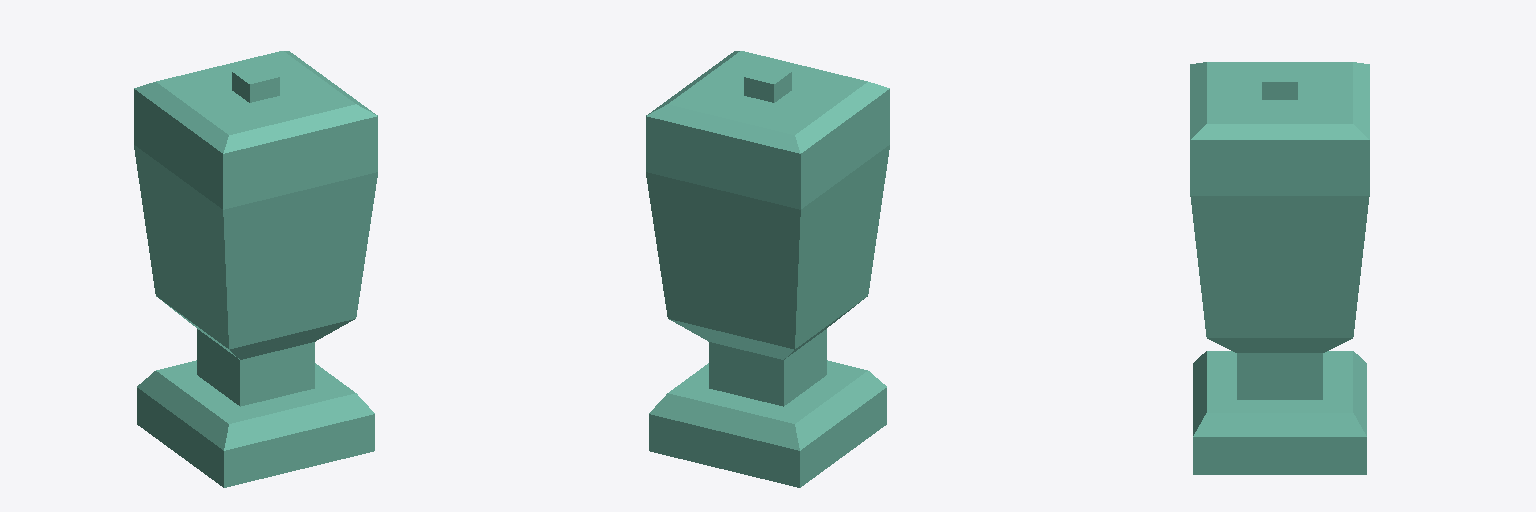
The model's file is urn.obj.
The picture shows the model from 3 angles: view 1: azimuth 30°, elevation 25°; view 2: azimuth 150°, elevation 25°; view 3: azimuth 270°, elevation 25°; orthographic projection.
Parts seen in each view (by area): view 1: urn, urnLid; view 2: urn, urnLid; view 3: urn, urnLid.
Boxes of the visible parts, box(x1,y1,x2,y2) form: urn: box(134, 108, 377, 487); urnLid: box(134, 51, 377, 172); urn: box(646, 108, 889, 487); urnLid: box(646, 51, 889, 172); urn: box(1190, 159, 1369, 474); urnLid: box(1190, 62, 1369, 158).
Size of the model in its own units: 1.74 by 3.9 by 1.74.